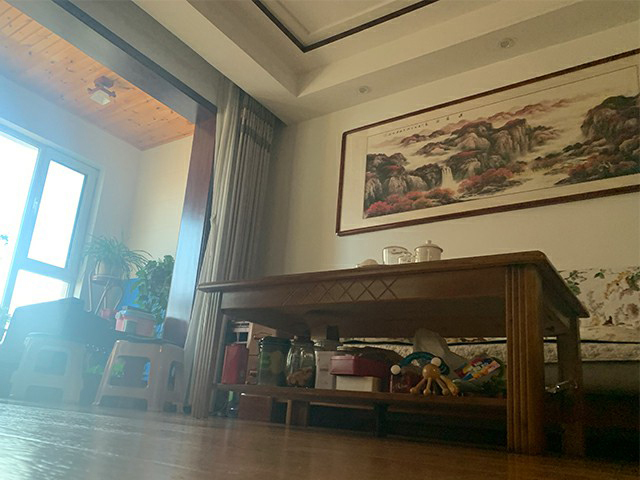curtain: (180, 97, 256, 411)
stool: (93, 336, 185, 412), (9, 332, 86, 405)
table: (186, 250, 590, 459)
